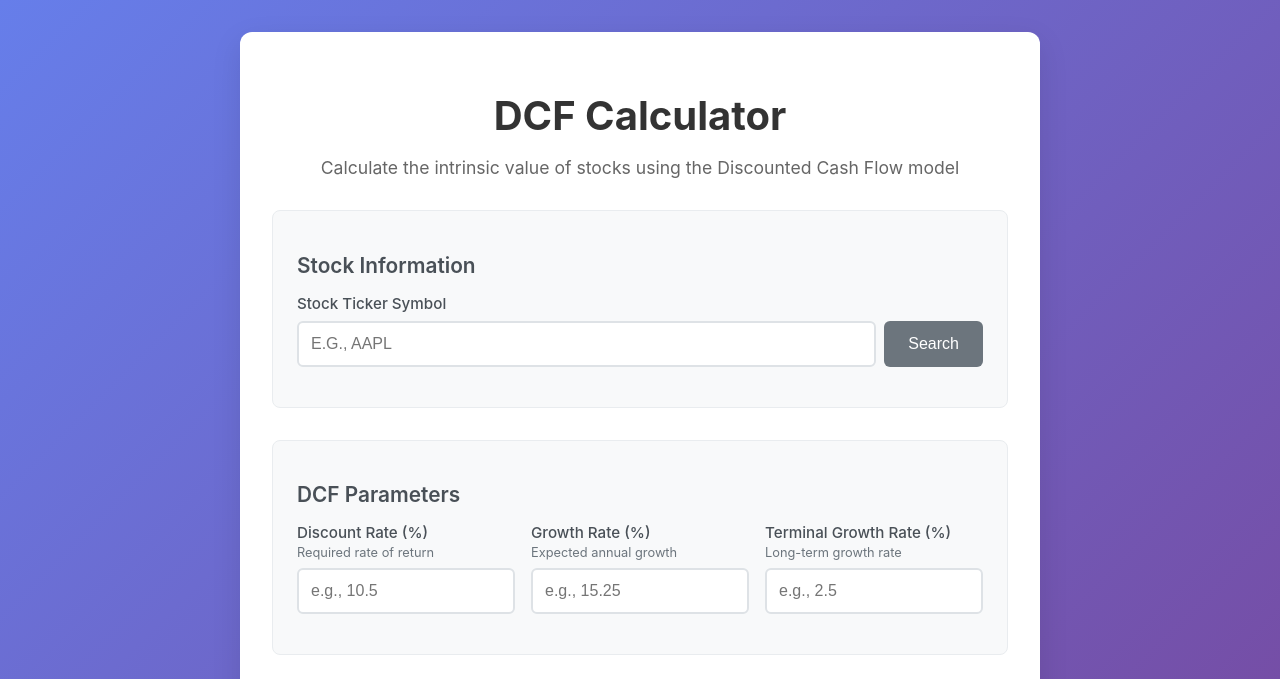
Test case: DCFCalculator › Form Validation › shows error when ticker is empty and form is submitted
This screenshot has width=1280, height=679.
Type "AAPL" into the field labelled "Stock Ticker Symbol". click: (587, 344)
box: [297,321,876,367]
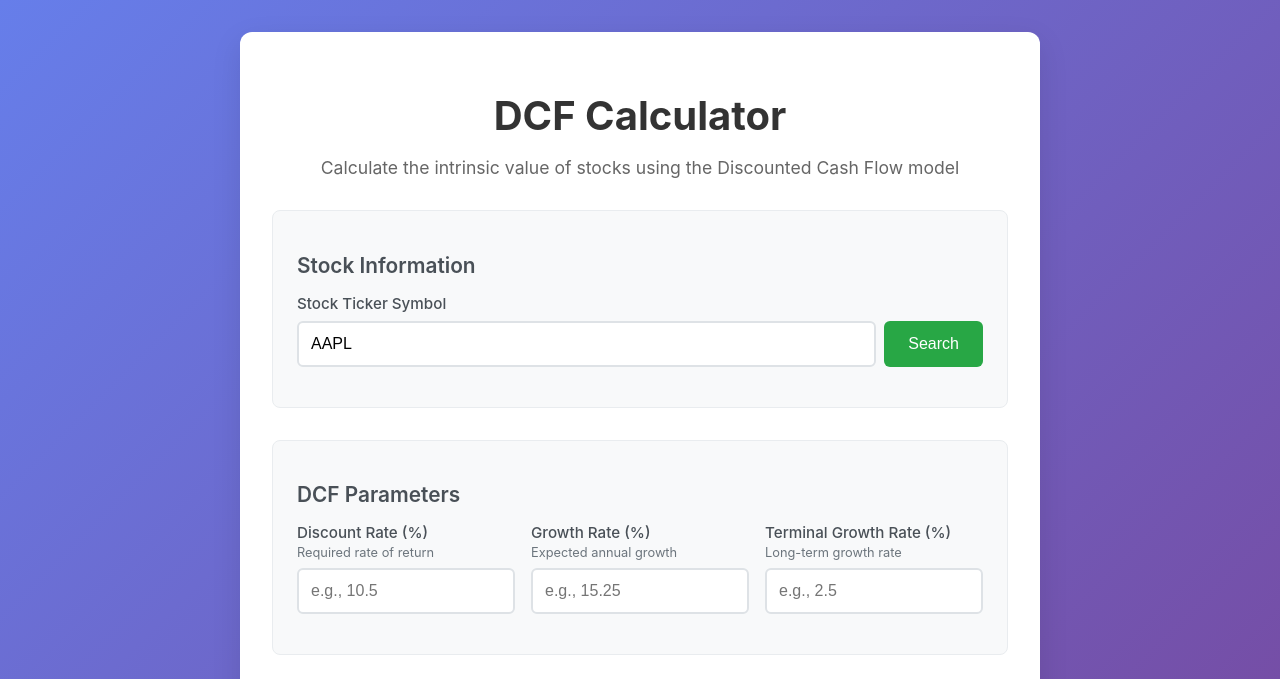
Click the button "Search". click: (934, 344)
box: [884,321,983,367]
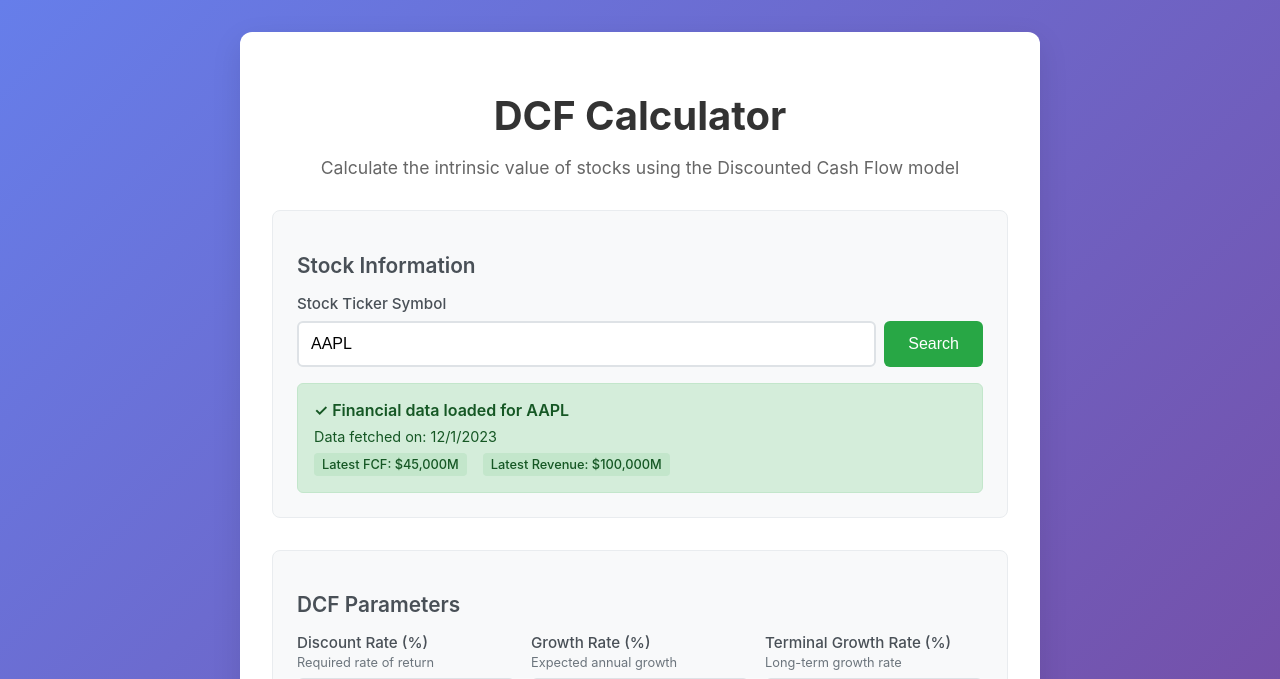
Result: the heading "✓ Financial data loaded for AAPL" is shown at [314,400,569,420]
Clear ticker to test validation
Clear the field labelled "Stock Ticker Symbol". click: (587, 344)
box: [297,321,876,367]
(page scrolled)
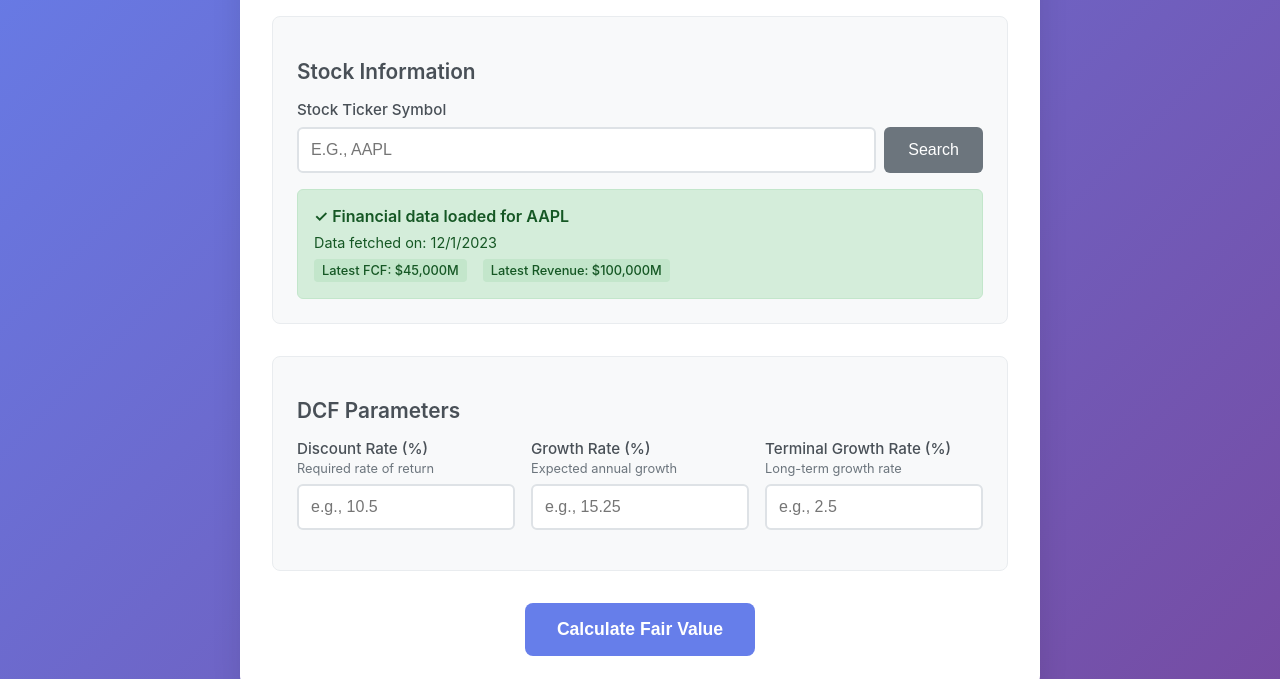
Click the button "Calculate Fair Value". click: (640, 630)
box: [525,603,755,656]
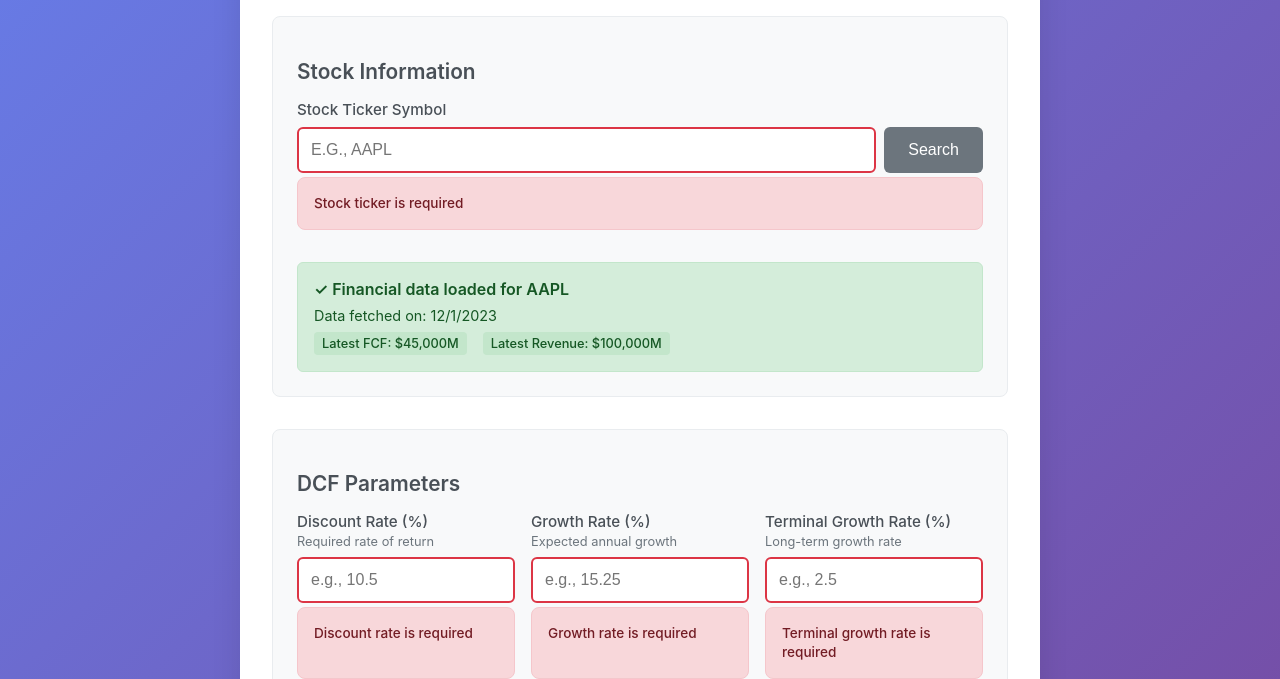
Result: the text "Stock ticker is required" is shown at [297,177,983,230]
